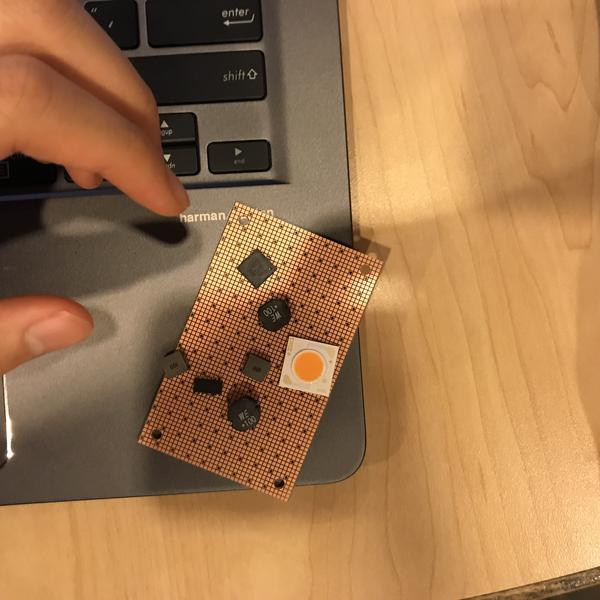board: (136, 197, 386, 505)
